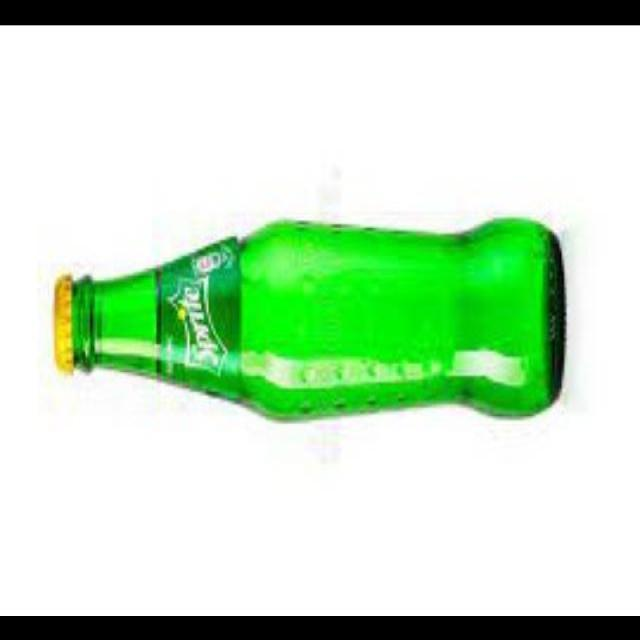Glass: (49, 212, 569, 424)
